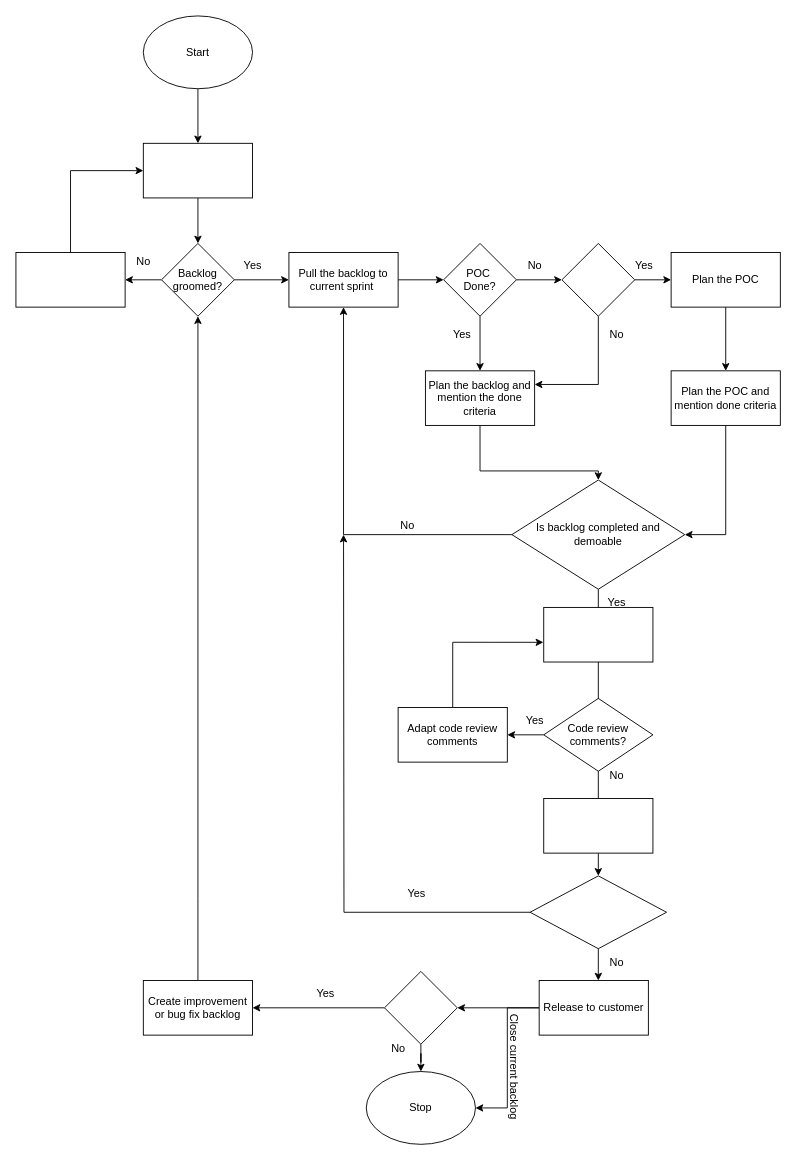
Image size: 796x1160. Some labels were removed from this diagram. Each missing label, with the box of its shape:
Bugs/ feedback?: (384, 971, 457, 1044)
Code review from topic owner: (543, 607, 653, 662)
Feedback?: (529, 875, 667, 949)
Groom & T shirt size the backlog to XS, S, M & XL: (15, 252, 125, 307)
Have a review and demo with the team: (543, 798, 653, 853)
Is POC required?: (561, 243, 635, 316)
Pull the backlog from pool: (142, 142, 253, 198)
